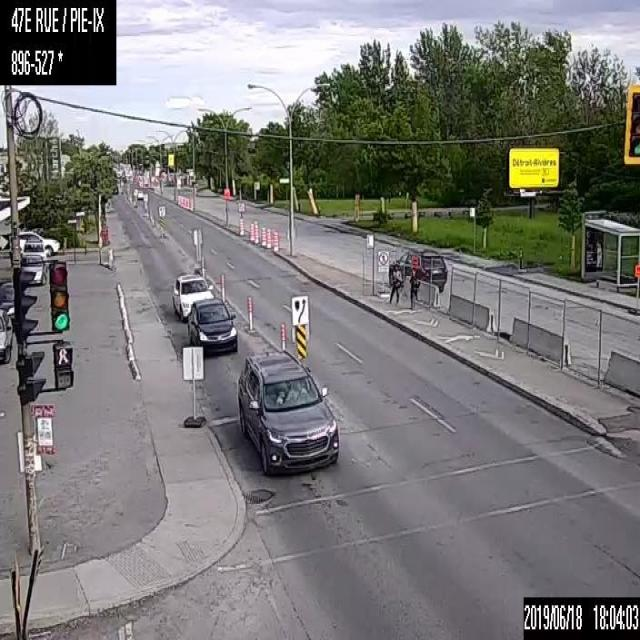construction: (246, 296, 253, 332), (219, 273, 225, 304), (279, 322, 285, 350), (248, 222, 254, 242), (272, 230, 277, 253), (238, 218, 244, 236), (265, 228, 270, 248), (260, 226, 265, 246), (253, 223, 258, 243), (201, 257, 204, 279)
pedestrian: (408, 268, 421, 309), (388, 264, 401, 304)
vehicle: (236, 349, 339, 480), (188, 298, 237, 360), (388, 246, 448, 294), (171, 273, 215, 320), (10, 231, 60, 255), (19, 252, 46, 282), (0, 308, 14, 364), (0, 280, 14, 327), (130, 187, 144, 200)
